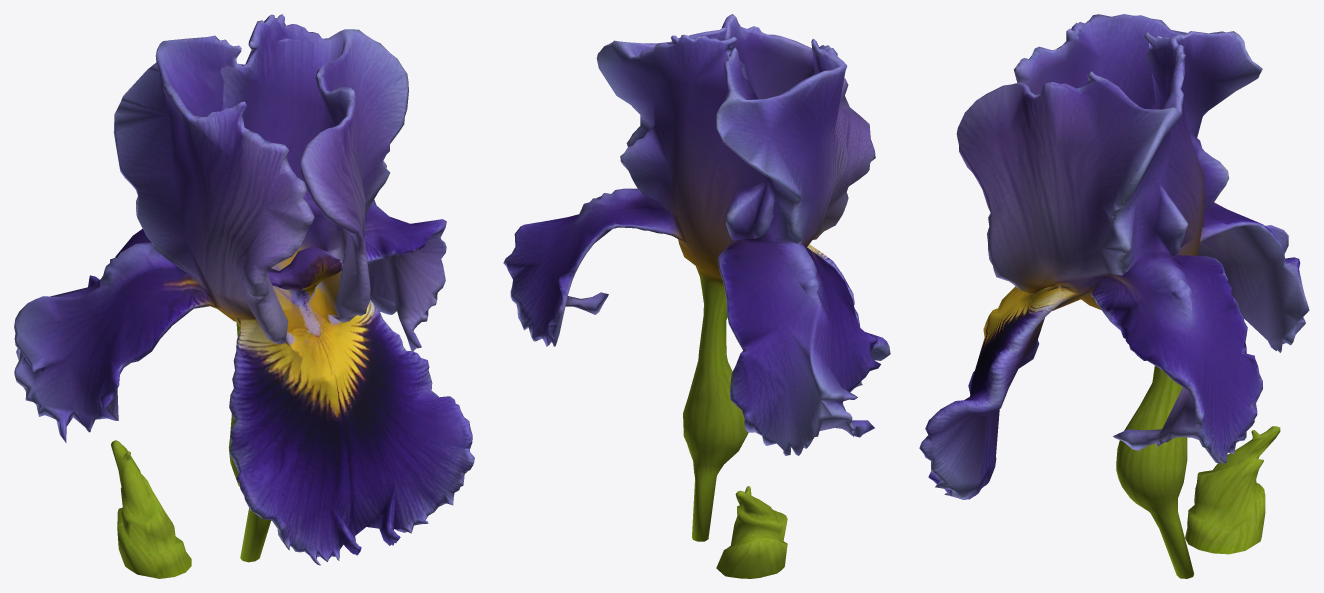
File: grace-iris.glb
The picture shows the model from 3 angles, left to right: view 1: azimuth 30°, elevation 25°; view 2: azimuth 150°, elevation 25°; view 3: azimuth 270°, elevation 25°; orthographic projection. The views are drawn at different scales.
Parts seen in each view (by area): view 1: tripo_node_fb47857d-f1a3-41fc-8ced-19f9d6e1d0a0; view 2: tripo_node_fb47857d-f1a3-41fc-8ced-19f9d6e1d0a0; view 3: tripo_node_fb47857d-f1a3-41fc-8ced-19f9d6e1d0a0.
Part boxes in pixels (x1,y1,x2,y2): tripo_node_fb47857d-f1a3-41fc-8ced-19f9d6e1d0a0: [14, 14, 474, 578]; tripo_node_fb47857d-f1a3-41fc-8ced-19f9d6e1d0a0: [503, 14, 890, 578]; tripo_node_fb47857d-f1a3-41fc-8ced-19f9d6e1d0a0: [919, 14, 1309, 578].
Bounding box in the file's own units: 0.7833 × 0.998 × 0.6543.
1 material, 1 textured.
